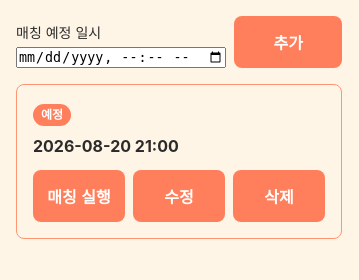
it: RoundTab › 생성 실패 시 서버 문구를 그대로 표시하고 목록은 그대로
Expected: the text "2026-08-20 21:00" is shown, [33,136,179,156]
Type "2026-09-01T21:00" into the field labelled "매칭 예정 일시" at [121, 57], box [16,47,226,68]
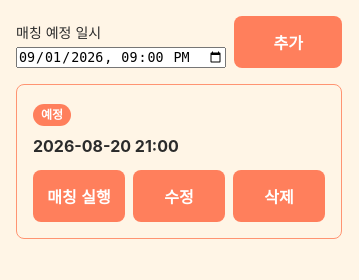
Click the button "추가" at [288, 42], box [234,16,342,68]
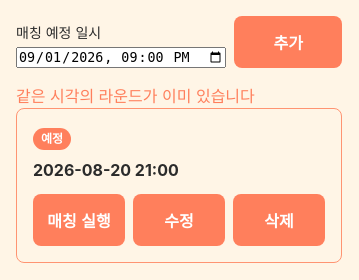
Expected: the text "2026-08-20 21:00" is shown, [33,160,179,180]
Expected: the text "같은 시각의 라운드가 이미 있습니다" is shown, [16,86,255,106]
